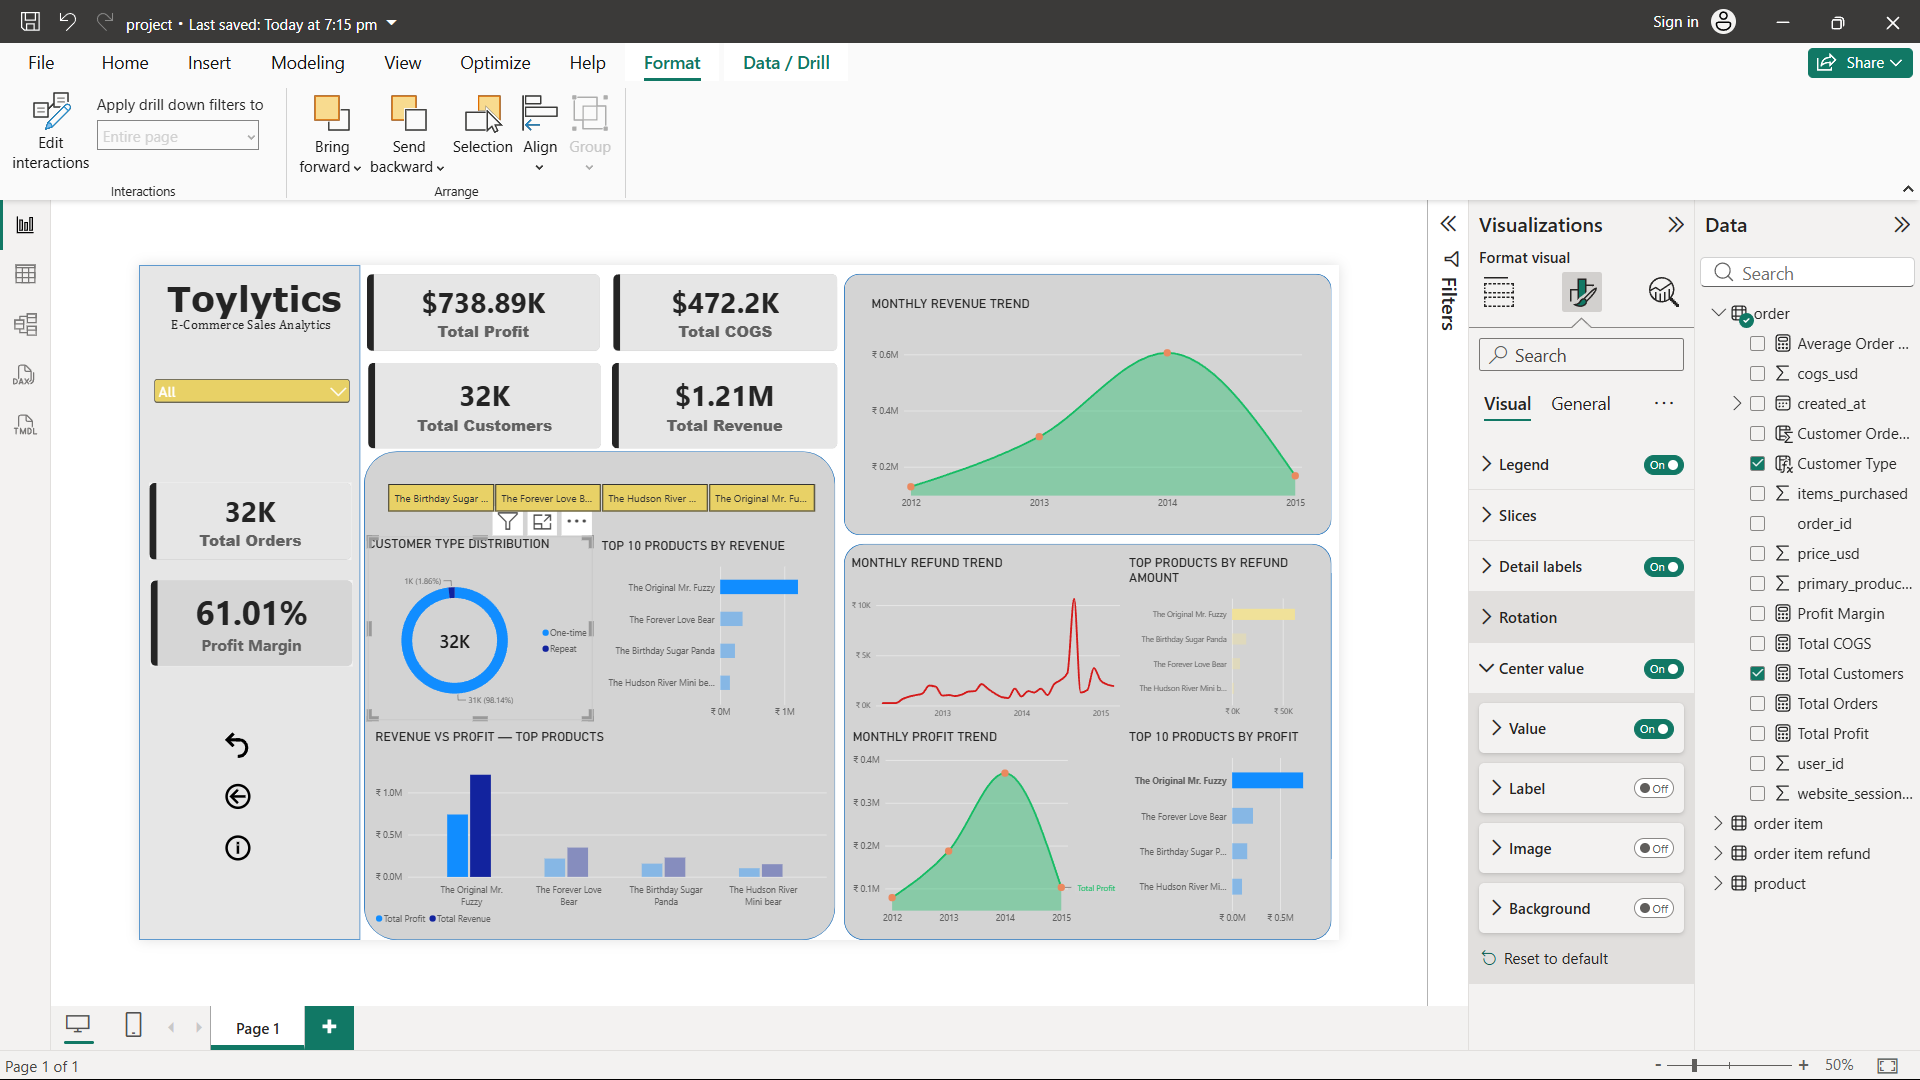

Layout of this report page (visuals, bound fields, positions):
{"tool":"powerbi","page":{"name":"Page 1","canvas":[1920,1080],"ordinal":0},"visuals":[{"type":"shape","box":[1128,446,780,634],"z":0},{"type":"shape","box":[1128,14,780,418],"z":1000},{"type":"shape","box":[0,0,354,1080],"z":2000},{"type":"shape","box":[360,298,754,782],"z":3000},{"type":"cardVisual","fields":{"Data":["order.Total Profit"]},"box":[364,14,374,124],"z":4000},{"type":"cardVisual","fields":{"Data":["order.Total Orders"]},"box":[16,348,324,124],"z":5000},{"type":"cardVisual","fields":{"Data":["order.Total Customers"]},"box":[366,156,374,138],"z":6000},{"type":"cardVisual","fields":{"Data":["order.Total COGS"]},"box":[758,14,360,124],"z":7000},{"type":"cardVisual","fields":{"Data":["order item.Total Revenue"]},"box":[756,156,362,138],"z":8000},{"type":"lineChart","title":"MONTHLY REVENUE TREND","fields":{"Category":["order.created_at.Variation.Date Hierarchy.Year","order.created_at.Variation.Date Hierarchy.Quarter","order.created_at.Variation.Date Hierarchy.Month","order.created_at.Variation.Date Hierarchy.Day"],"Y":["order item.Total Revenue"]},"box":[1172,50,694,346],"z":9000},{"type":"lineChart","title":"MONTHLY PROFIT TREND","fields":{"Category":["order.created_at.Variation.Date Hierarchy.Year","order.created_at.Variation.Date Hierarchy.Quarter","order.created_at.Variation.Date Hierarchy.Month","order.created_at.Variation.Date Hierarchy.Day"],"Y":["order.Total Profit"]},"box":[1142,742,430,318],"z":10000},{"type":"donutChart","title":"CUSTOMER TYPE DISTRIBUTION","fields":{"Category":["order.Customer Type"],"Y":["order.Total Customers"]},"box":[366,434,360,294],"z":11000},{"type":"clusteredBarChart","title":"TOP 10 PRODUCTS BY PROFIT","fields":{"Category":["product.product_name"],"Y":["order.Total Profit"]},"box":[1584,742,310,318],"z":12000},{"type":"clusteredColumnChart","title":"REVENUE VS PROFIT — TOP PRODUCTS","fields":{"Category":["product.product_name"],"Y":["order.Total Profit","order item.Total Revenue"]},"box":[378,742,722,318],"z":13000},{"type":"barChart","title":"TOP 10 PRODUCTS BY REVENUE","fields":{"Category":["product.product_name"],"Y":["order item.Total Revenue"]},"box":[740,436,360,294],"z":14000},{"type":"barChart","title":"TOP PRODUCTS BY REFUND AMOUNT","fields":{"Category":["product.product_name"],"Y":["Sum(order item refund.refund_amount_usd)"]},"box":[1584,464,310,264],"z":15000},{"type":"lineChart","title":"MONTHLY REFUND TREND","fields":{"Category":["order item refund.created_at.Variation.Date Hierarchy.Year","order item refund.created_at.Variation.Date Hierarchy.Quarter","order item refund.created_at.Variation.Date Hierarchy.Month"],"Y":["Sum(order item refund.refund_amount_usd)"]},"box":[1140,464,432,266],"z":16000},{"type":"slicer","title":"year","fields":{"Values":["order.created_at.Variation.Date Hierarchy.Year"]},"box":[20,178,322,62],"z":17000},{"type":"slicer","fields":{"Values":["product.product_name"]},"box":[378,348,722,48],"z":18000},{"type":"textbox","box":[0,14,354,92],"z":19000},{"type":"textbox","box":[18,82,322,110],"z":20000},{"type":"cardVisual","fields":{"Data":["order.Profit Margin"]},"box":[18,504,324,138],"z":21000},{"type":"actionButton","box":[100,728,106,82],"z":22000},{"type":"actionButton","box":[48,780,212,142],"z":23000},{"type":"actionButton","box":[104,880,100,108],"z":24000}]}

Visuals, with their boxes on the page's 1920x1080 design canvas (x1, y1, x2, y2). These are canvas units, not pixel positions in the 1920x1080 screenshot, which may show the page scaled, cropped or inside an application window:
shape: (1128, 446, 1908, 1080)
shape: (1128, 14, 1908, 432)
shape: (0, 0, 354, 1080)
shape: (360, 298, 1114, 1080)
cardVisual - order.Total Profit: (364, 14, 738, 138)
cardVisual - order.Total Orders: (16, 348, 340, 472)
cardVisual - order.Total Customers: (366, 156, 740, 294)
cardVisual - order.Total COGS: (758, 14, 1118, 138)
cardVisual - order item.Total Revenue: (756, 156, 1118, 294)
"MONTHLY REVENUE TREND" lineChart: (1172, 50, 1866, 396)
"MONTHLY PROFIT TREND" lineChart: (1142, 742, 1572, 1060)
"CUSTOMER TYPE DISTRIBUTION" donutChart: (366, 434, 726, 728)
"TOP 10 PRODUCTS BY PROFIT" clusteredBarChart: (1584, 742, 1894, 1060)
"REVENUE VS PROFIT — TOP PRODUCTS" clusteredColumnChart: (378, 742, 1100, 1060)
"TOP 10 PRODUCTS BY REVENUE" barChart: (740, 436, 1100, 730)
"TOP PRODUCTS BY REFUND AMOUNT" barChart: (1584, 464, 1894, 728)
"MONTHLY REFUND TREND" lineChart: (1140, 464, 1572, 730)
"year" slicer: (20, 178, 342, 240)
slicer - product.product_name: (378, 348, 1100, 396)
textbox: (0, 14, 354, 106)
textbox: (18, 82, 340, 192)
cardVisual - order.Profit Margin: (18, 504, 342, 642)
actionButton: (100, 728, 206, 810)
actionButton: (48, 780, 260, 922)
actionButton: (104, 880, 204, 988)
